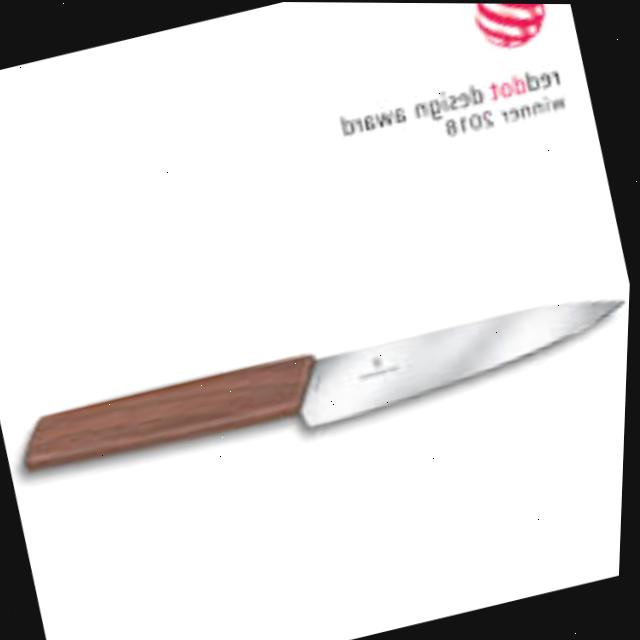Knife: (16, 269, 632, 498)
